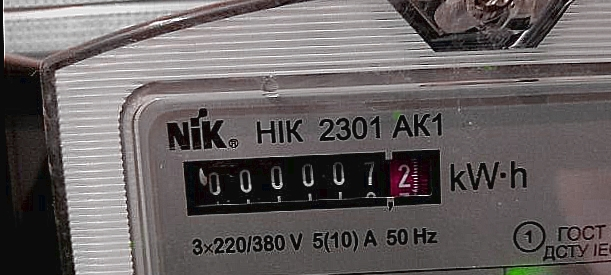0: (204, 168, 222, 195), (298, 160, 316, 187), (236, 165, 253, 193), (267, 162, 284, 190), (330, 159, 346, 187)
2: (395, 162, 412, 189)
7: (361, 157, 377, 187)
screen: (171, 142, 452, 220)
